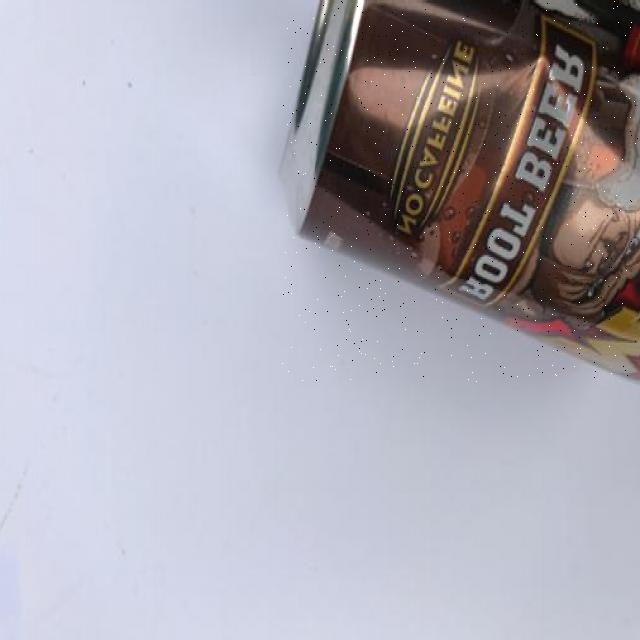metal: (282, 1, 640, 382)
